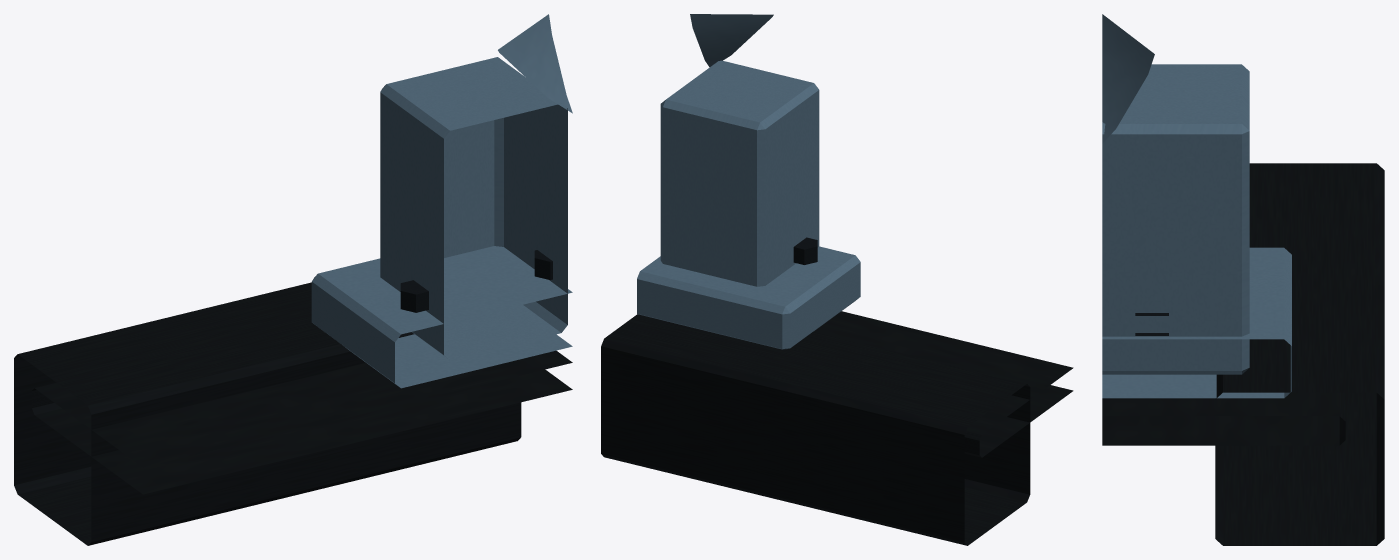
Rendered from cell_4.obj.
3 views of the same model, side by side, from view 1: azimuth 30°, elevation 25°; view 2: azimuth 150°, elevation 25°; view 3: azimuth 270°, elevation 25° (orthographic). The views are drawn at different scales.
Parts seen in each view (by area): view 1: cell_4; view 2: cell_4; view 3: cell_4.
Boxes of the visible parts, <box> form: cell_4: <box>14,14,572,545</box>; cell_4: <box>601,14,1073,545</box>; cell_4: <box>1102,14,1384,545</box>.
Size of the model in its own units: 1 by 1 by 0.52.
